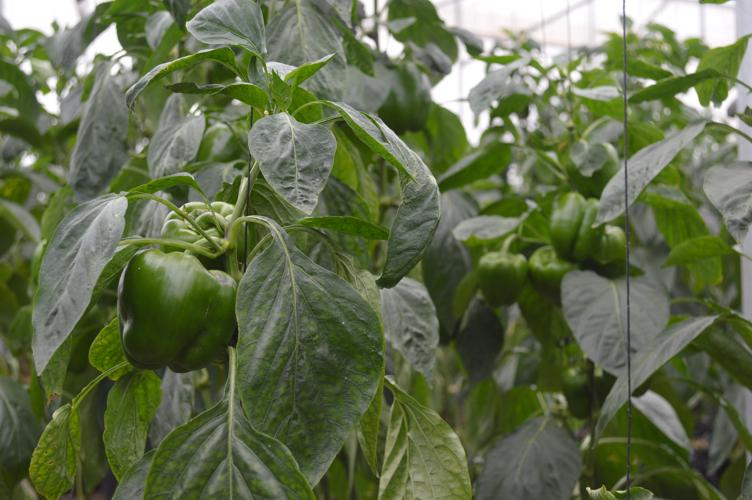BellPepper: (116, 244, 242, 377), (538, 187, 609, 262), (379, 58, 440, 139), (470, 248, 529, 309), (523, 240, 578, 303)
